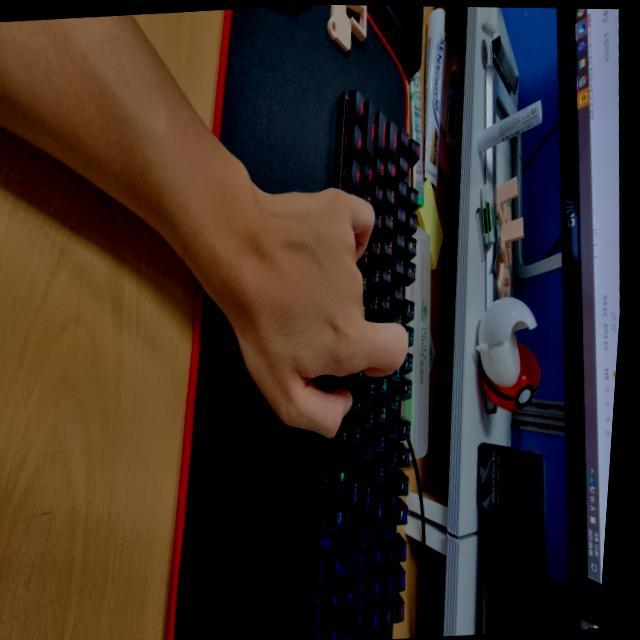keyboard-with-hands: (318, 82, 422, 640)
